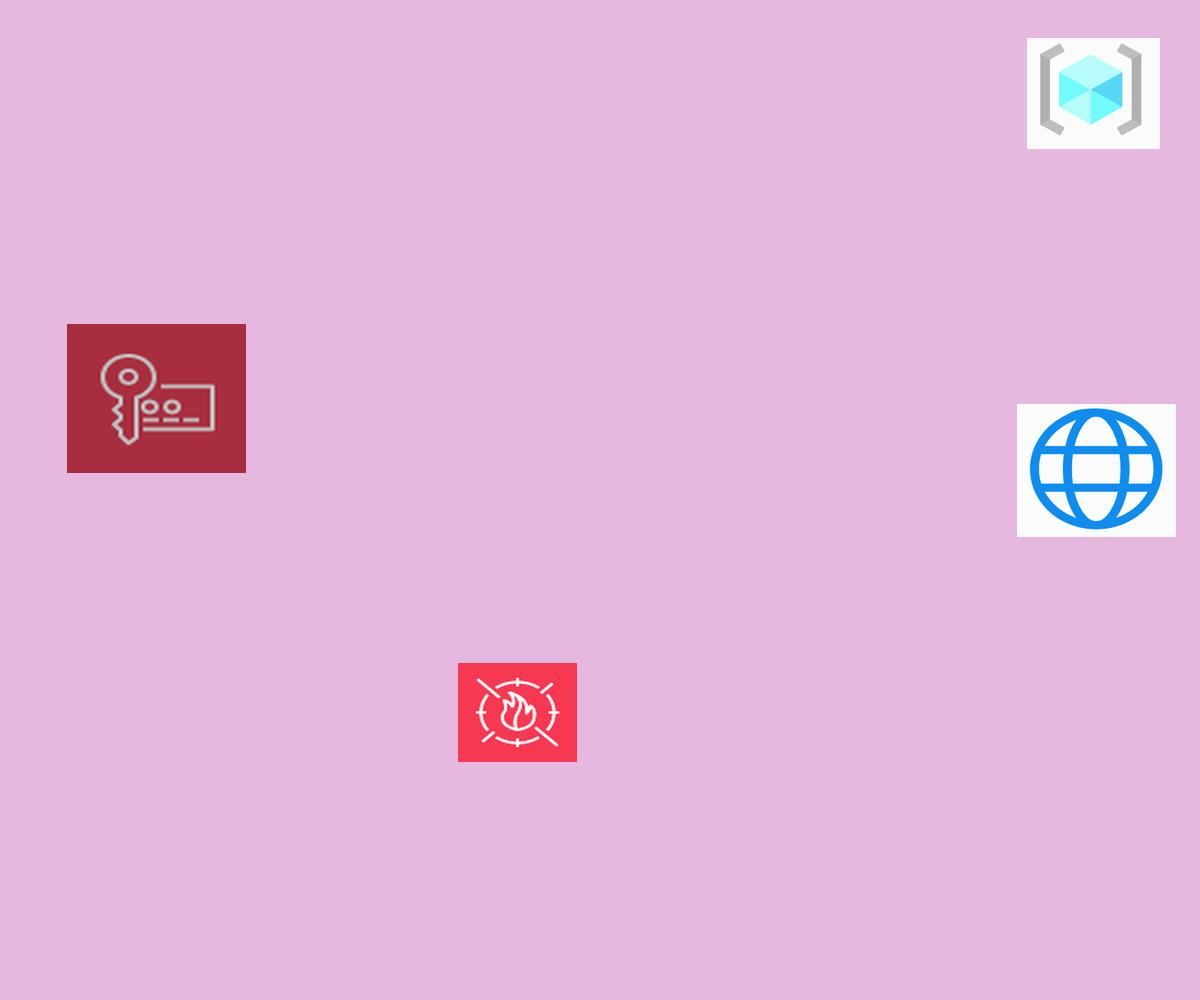AWS-Key-Management-Service: (67, 324, 246, 473)
AWS-WAF: (458, 663, 577, 762)
Azure_http: (1017, 404, 1176, 537)
Azure_resource_group: (1027, 38, 1160, 149)
